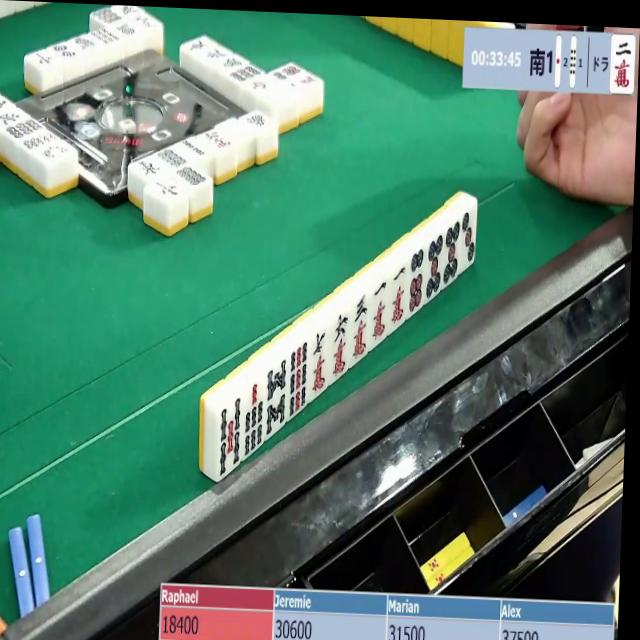m1: (387, 264, 410, 331), (369, 278, 390, 346)
m2: (611, 35, 636, 92)
m3: (352, 290, 370, 363)
m6: (330, 311, 351, 382)
m7: (309, 327, 332, 395)
s5: (215, 396, 245, 483)
s7: (244, 381, 268, 460)
s8: (263, 358, 290, 439)
s9: (286, 341, 311, 418)
t3: (460, 208, 475, 270)
t5: (424, 234, 444, 304), (443, 218, 461, 288)
t6: (407, 247, 428, 318)
